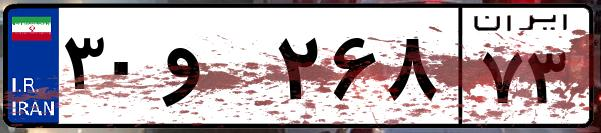0: (110, 28, 158, 98)
2: (270, 28, 330, 110)
3: (57, 26, 110, 100), (525, 38, 570, 115)
6: (330, 28, 385, 110)
7: (475, 38, 525, 113)
8: (385, 28, 445, 110)
و: (158, 20, 270, 120)
